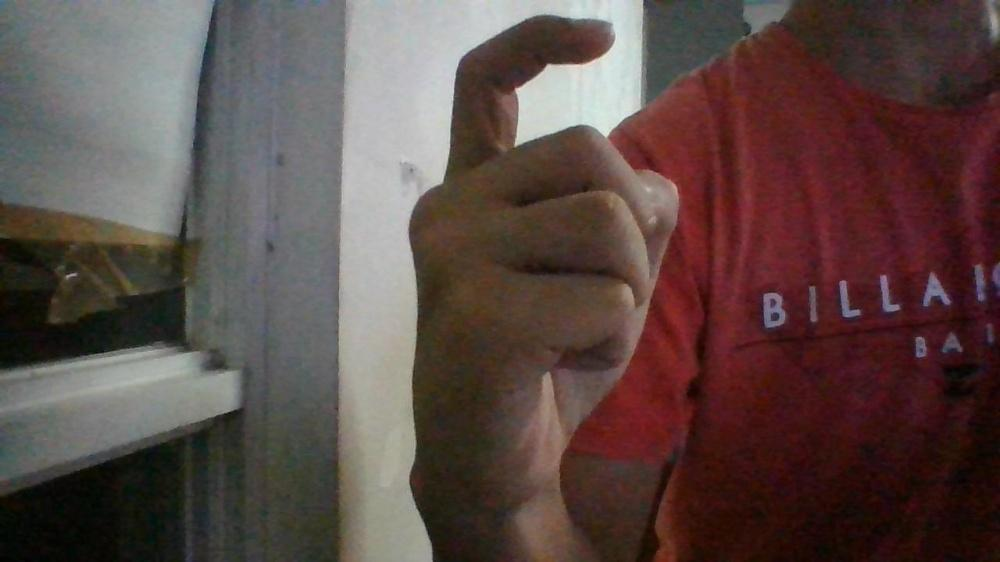x: (406, 10, 683, 517)
